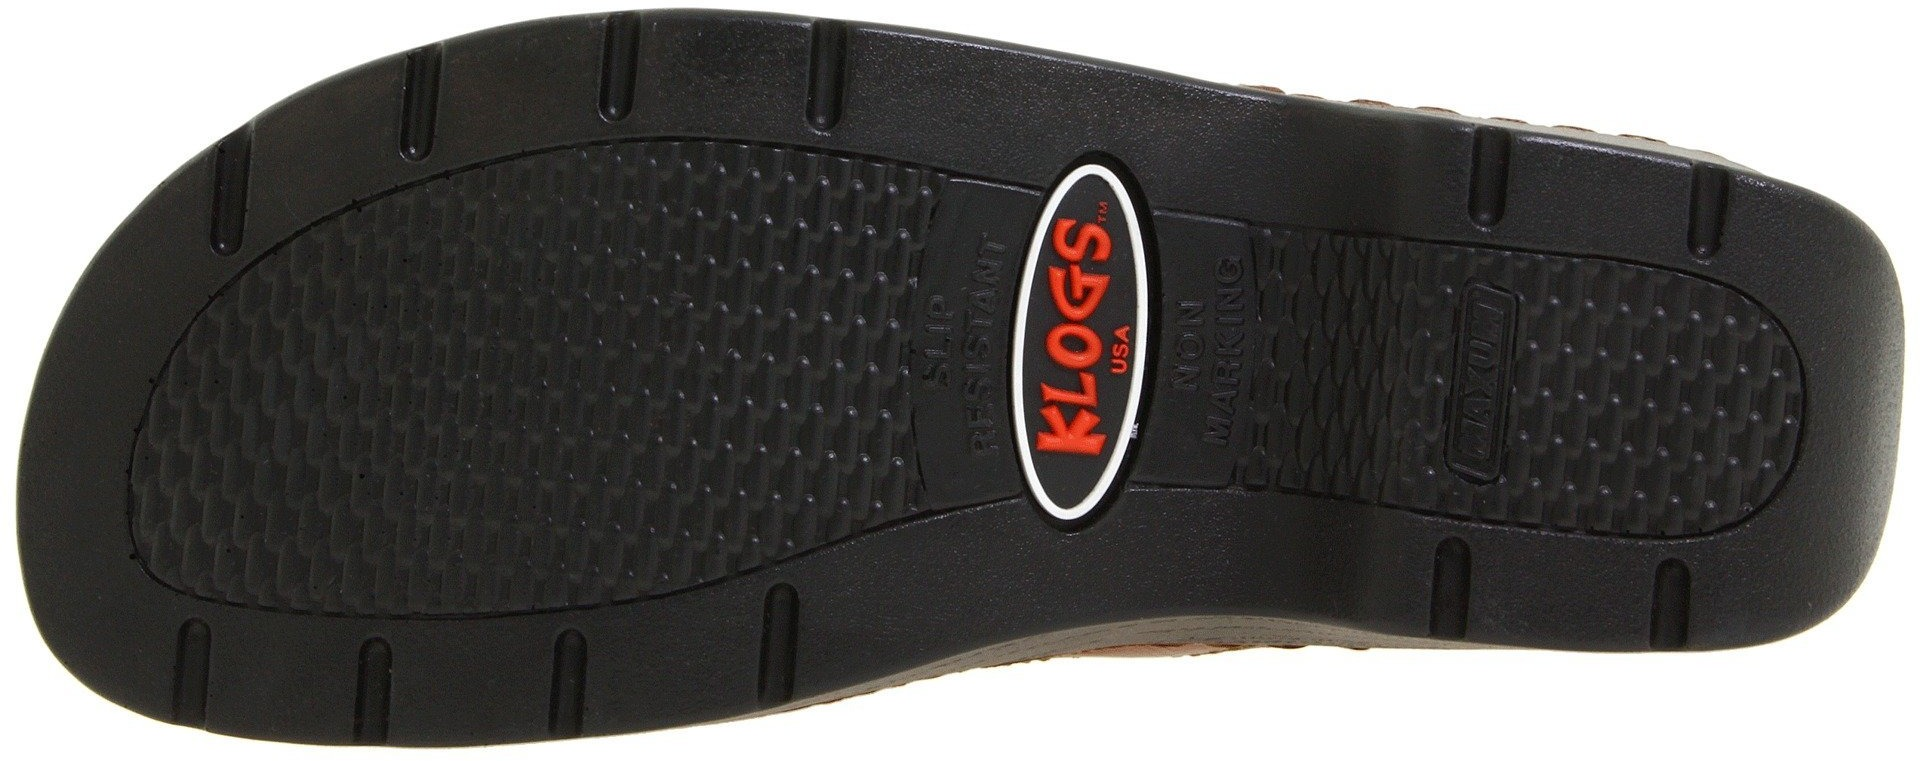circle: (1000, 113, 1176, 560)
quad: (345, 233, 696, 562), (1423, 256, 1540, 490)
text: (1423, 256, 1540, 490), (1166, 293, 1261, 407), (912, 270, 1007, 382), (1029, 363, 1122, 469), (1052, 238, 1133, 349)
